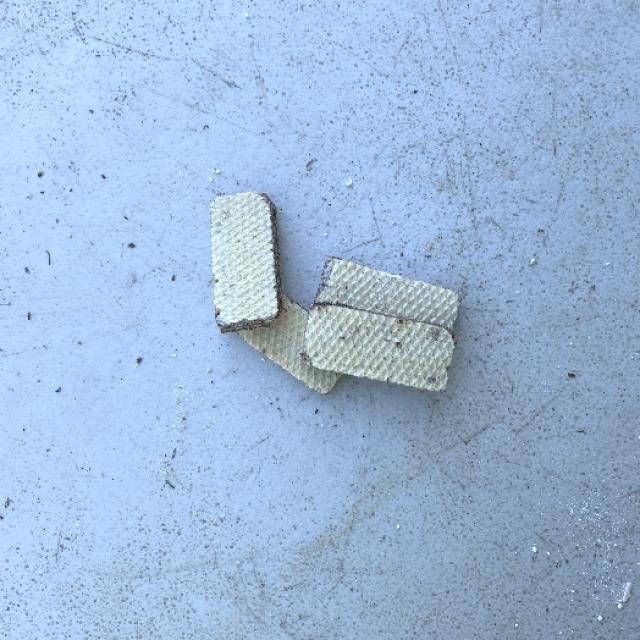organic: (174, 187, 484, 412)
